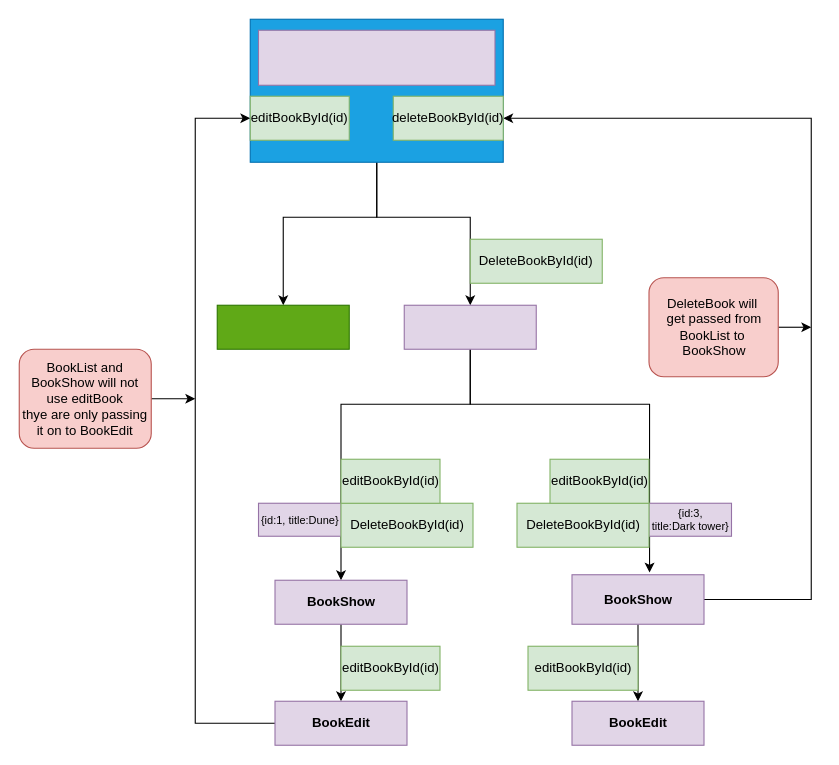
This 839x765 diagram has some shape labels left out. Here are the shapes that lost their labels. From the top down, the box of each, then its label:
(257, 29, 495, 85): book [{id:1, title:Dune}, {id:2, title "goat"}, {id:3, title Dark Tower}
(216, 304, 349, 349): BookCreate
(403, 304, 536, 349): BookList
